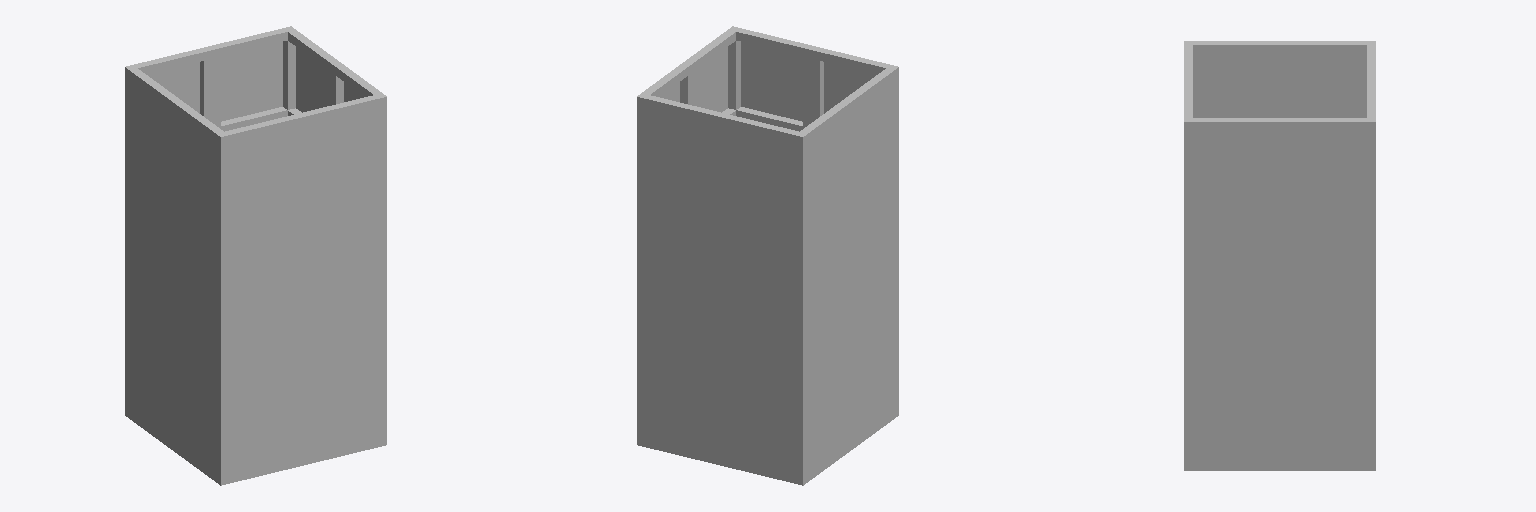
File: building.obj
3 renders of one model, left to right at view 1: azimuth 30°, elevation 25°; view 2: azimuth 150°, elevation 25°; view 3: azimuth 270°, elevation 25°, orthographic.
Visible parts, largest first — view 1: Cube.001; view 2: Cube.001; view 3: Cube.001.
Boxes of the visible parts, <box> form: Cube.001: <box>125,26,386,485</box>; Cube.001: <box>637,26,898,485</box>; Cube.001: <box>1184,41,1375,470</box>.
Bounding box in the file's own units: 2 × 4 × 2.